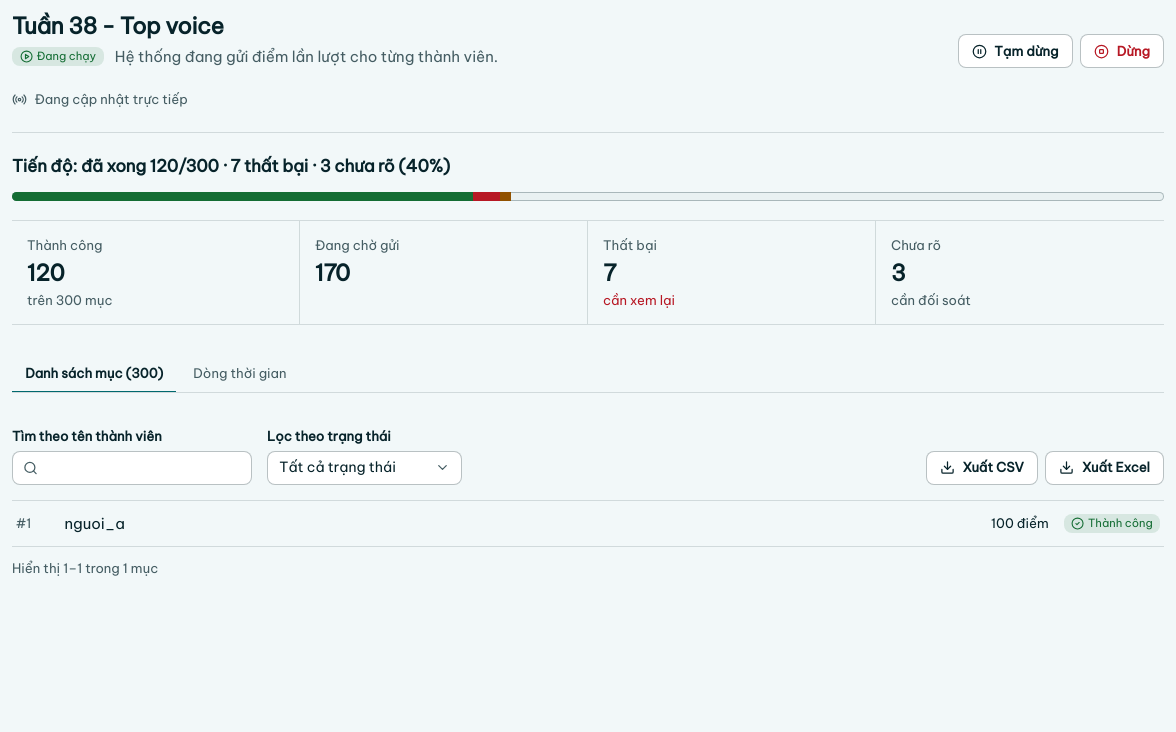
Test: JobDetailPage › dòng thời gian: sự kiện đọc được bằng tiếng Việt, mới nhất ở trên, không hiện 'Invalid Date'
Click the tab "Dòng thời gian": (240,374) x1=180 y1=355 x2=300 y2=393
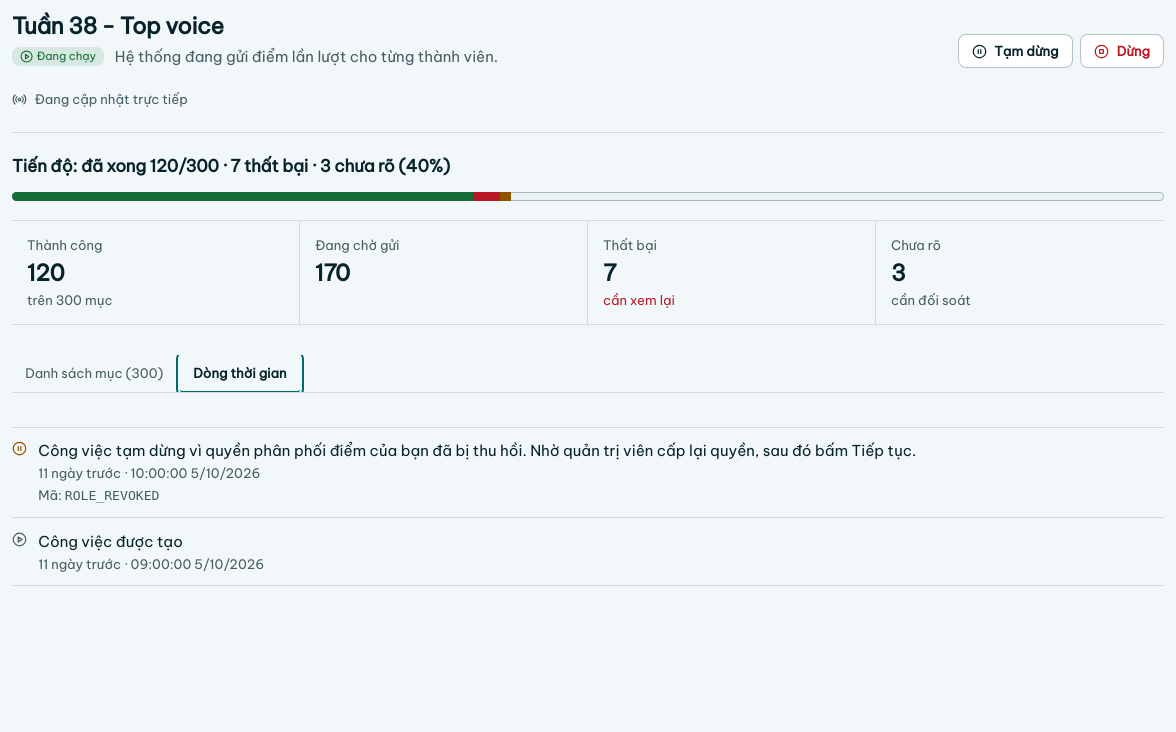
Expected: the list named "Dòng thời gian sự kiện" does not show "Invalid", x1=12 y1=427 x2=1164 y2=586
Result: the 1st list item shows "quyền phân phối điểm của bạn đã bị thu hồi" at x1=38 y1=441 x2=916 y2=460
Result: the list item "Công việc được tạo 11 ngày trước · 09:00:00 5/10/2026" is shown at x1=12 y1=518 x2=1164 y2=586
